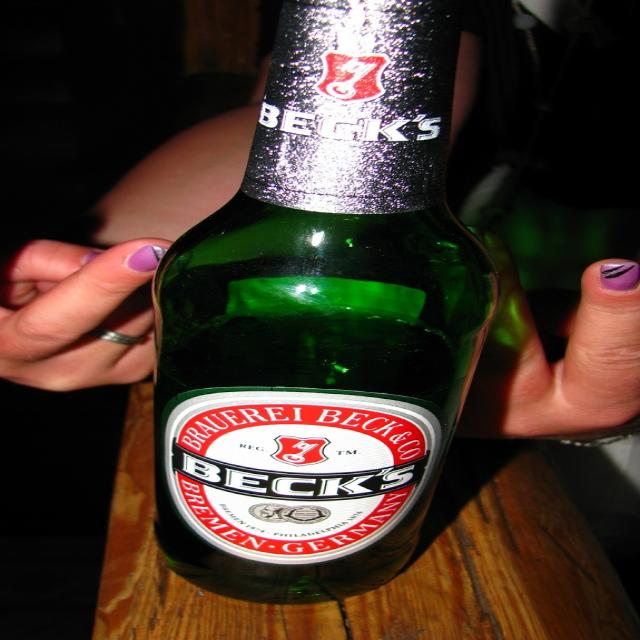becks: (162, 392, 444, 566)
